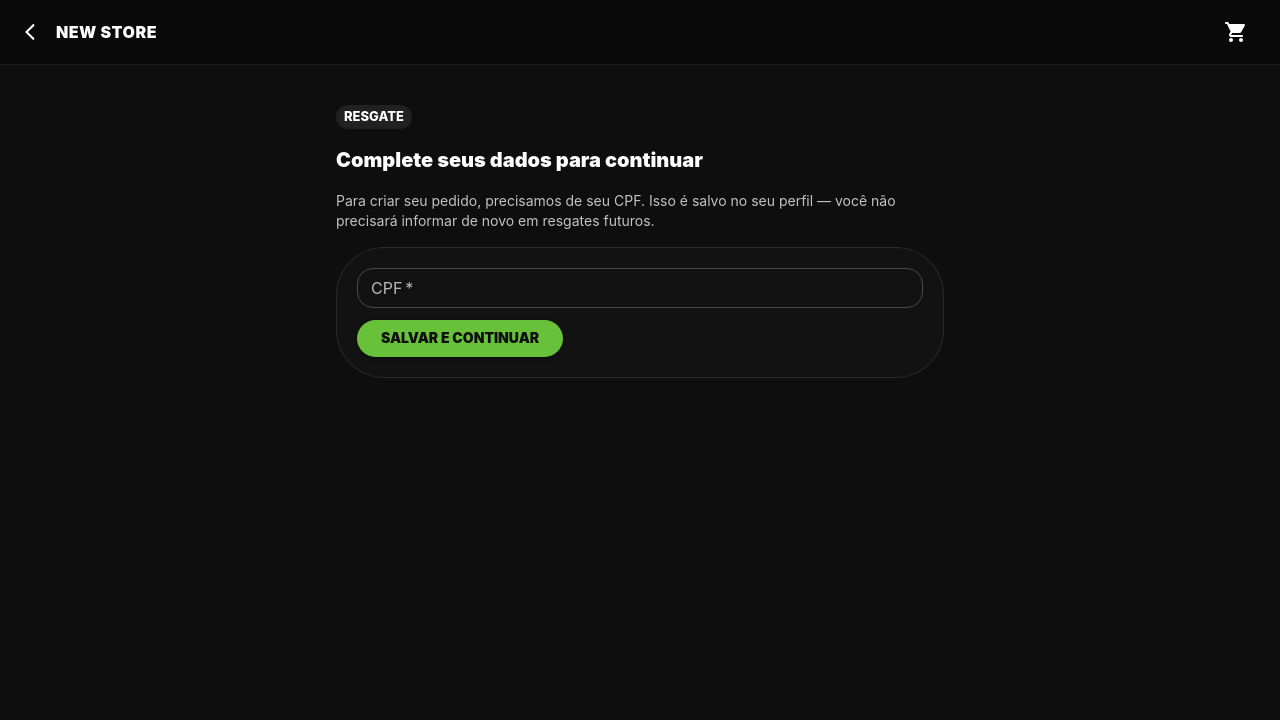
Test: salvar cpf valido libera o fluxo normal e avanca automaticamente para a revisao
Type "111.444.777-35" into the field labelled "CPF *" at (640, 288), box x1=357 y1=268 x2=923 y2=308
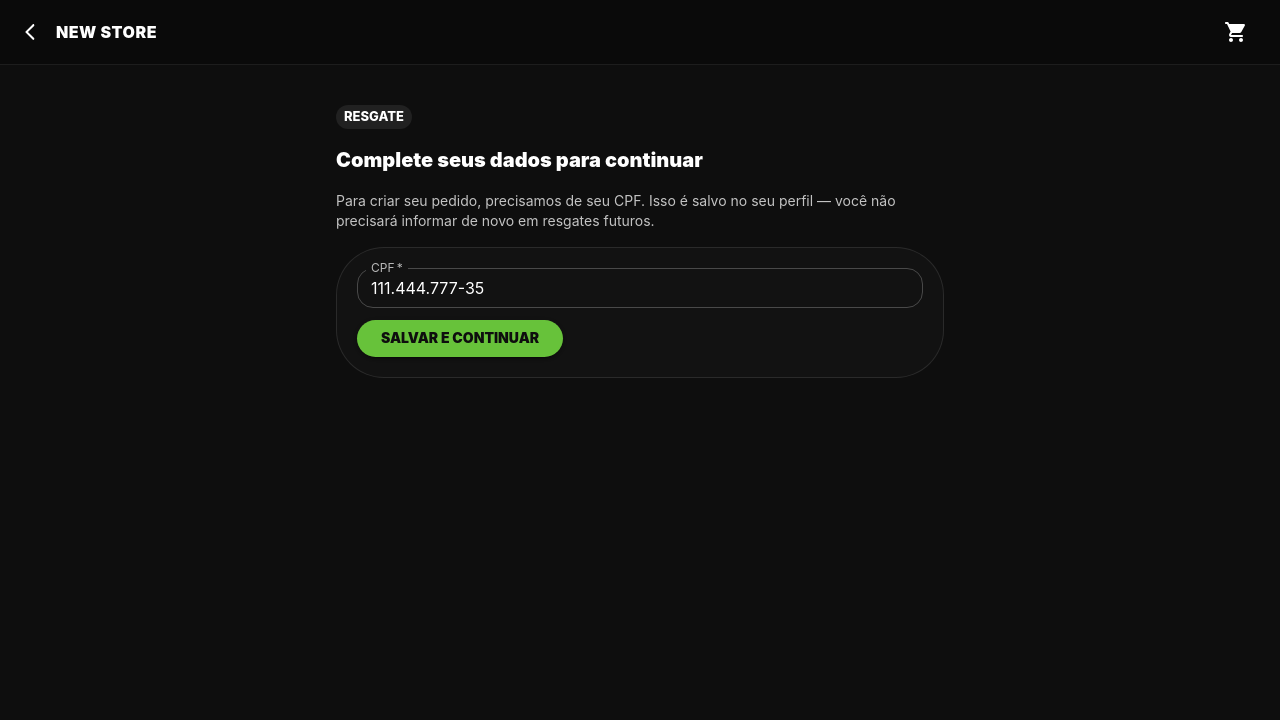
Click the button "SALVAR E CONTINUAR" at (460, 338), box x1=357 y1=320 x2=563 y2=356
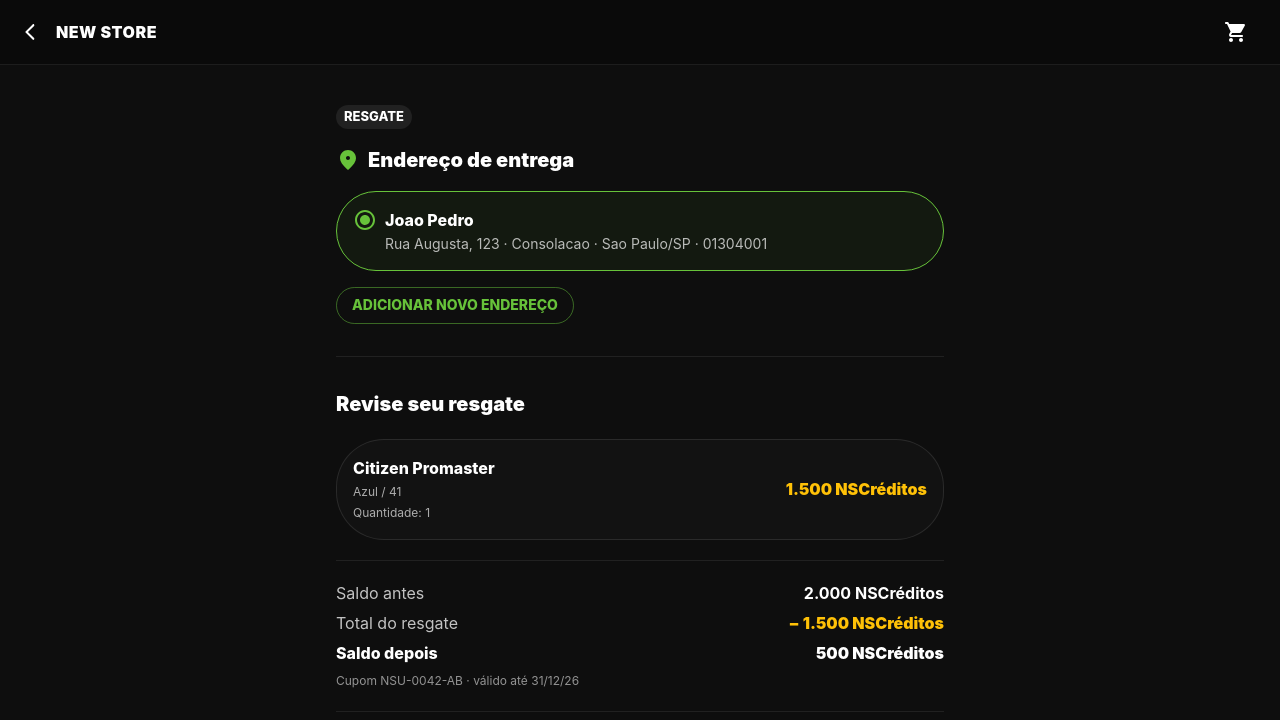
Check: the text "Citizen Promaster" is shown, box x1=353 y1=458 x2=495 y2=478
